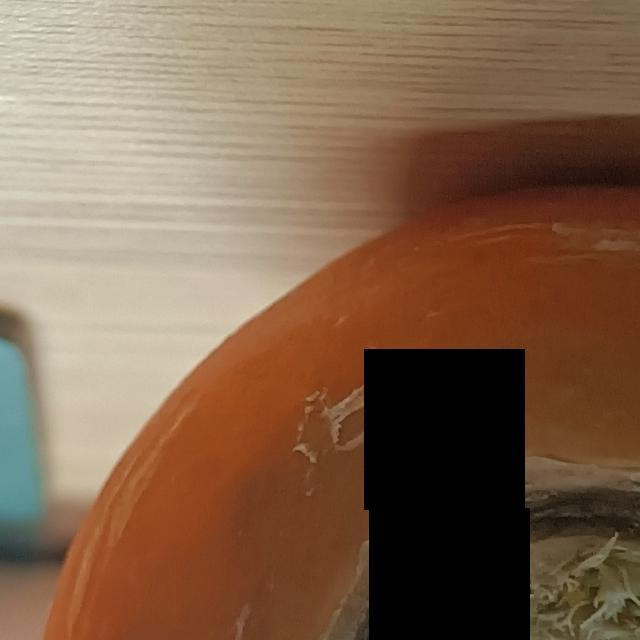carrot: (12, 171, 640, 640)
